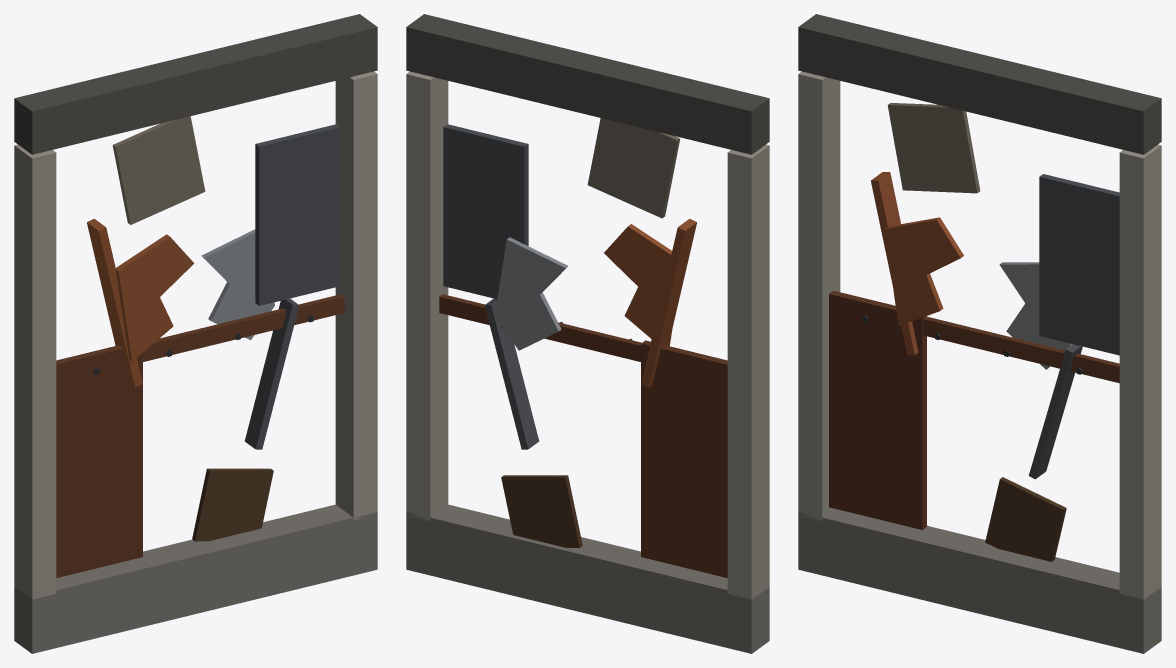
File: piece_wall_critical.fbx
3 renders of one model, left to right at view 1: azimuth 30°, elevation 25°; view 2: azimuth 150°, elevation 25°; view 3: azimuth 330°, elevation 25°, orthographic.
Parts seen in each view (by area): view 1: piece_wall_critical; view 2: piece_wall_critical; view 3: piece_wall_critical.
Part boxes in pixels (<box>): piece_wall_critical: <box>14,14,377,653</box>; piece_wall_critical: <box>406,14,769,653</box>; piece_wall_critical: <box>798,14,1161,653</box>.
Bounding box in the file's own units: 2 × 3 × 0.18.
